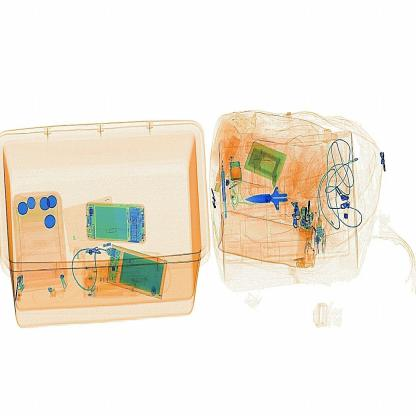gun: (239, 181, 309, 222)
